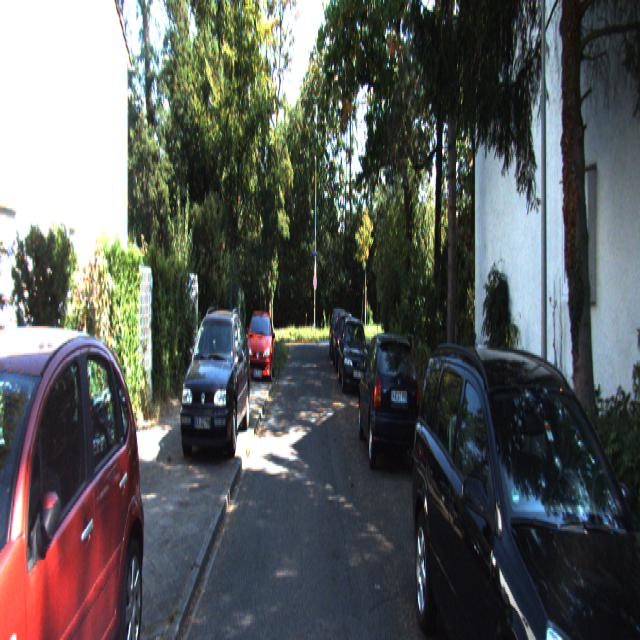Car: (408, 324, 640, 638), (0, 320, 152, 639), (178, 309, 251, 469), (357, 326, 422, 474), (339, 312, 372, 392), (243, 303, 274, 380)
